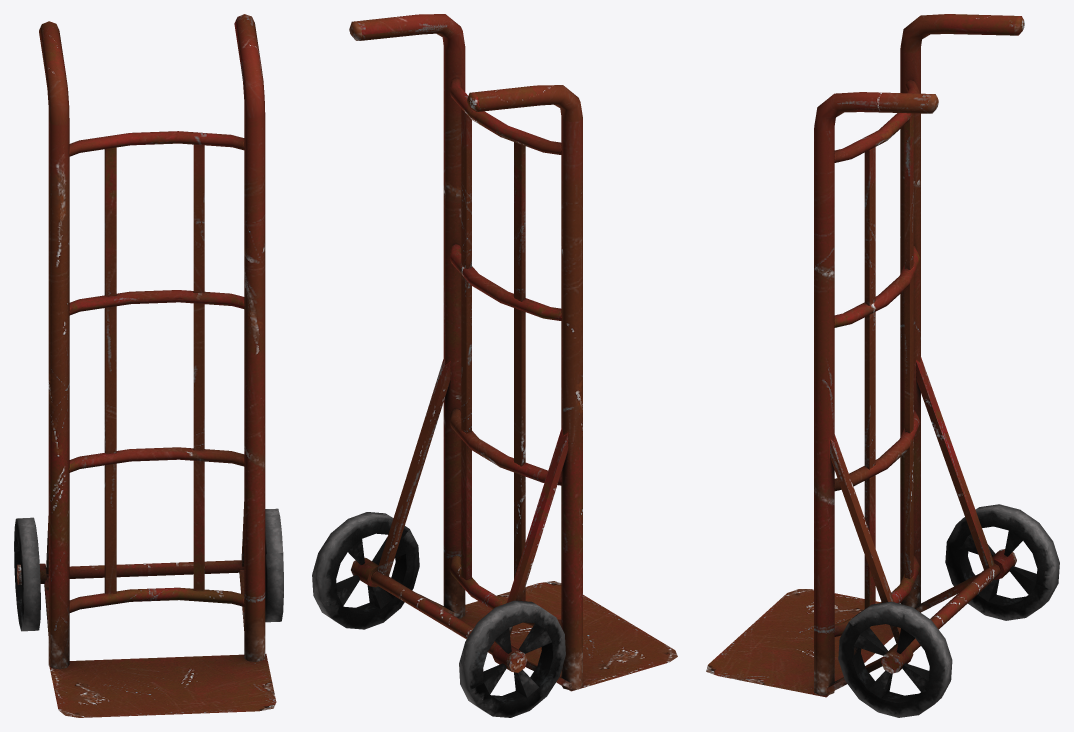
The model's file is prop4.glb.
3 views of the same model, side by side, from view 1: azimuth 30°, elevation 25°; view 2: azimuth 150°, elevation 25°; view 3: azimuth 270°, elevation 25° (orthographic). The views are drawn at different scales.
Parts seen in each view (by area): view 1: HandTruck_tex_HandTruck_0; view 2: HandTruck_tex_HandTruck_0; view 3: HandTruck_tex_HandTruck_0.
Boxes of the visible parts, bbox=[...] form: HandTruck_tex_HandTruck_0: bbox=[14, 14, 283, 717]; HandTruck_tex_HandTruck_0: bbox=[312, 14, 677, 717]; HandTruck_tex_HandTruck_0: bbox=[706, 14, 1059, 717].
Size of the model in its own units: 0.5139 by 1.05 by 0.5424.
1 material, 1 textured.
